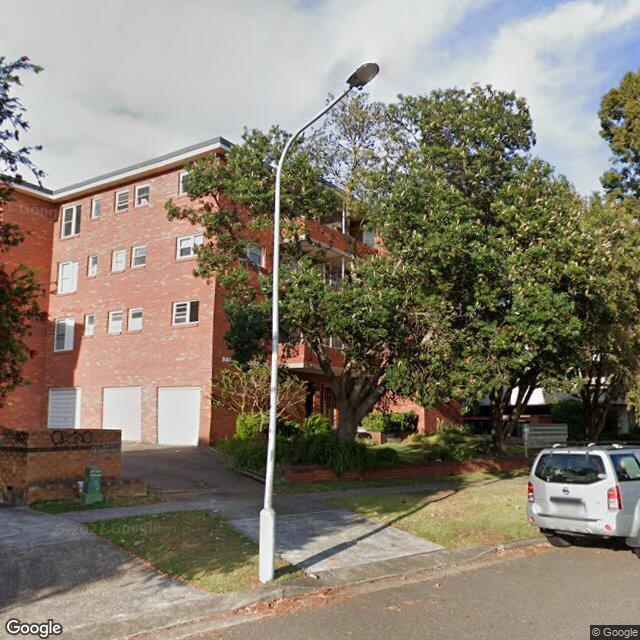steel-pole: (258, 166, 282, 582)
streetlight: (279, 63, 381, 168)
